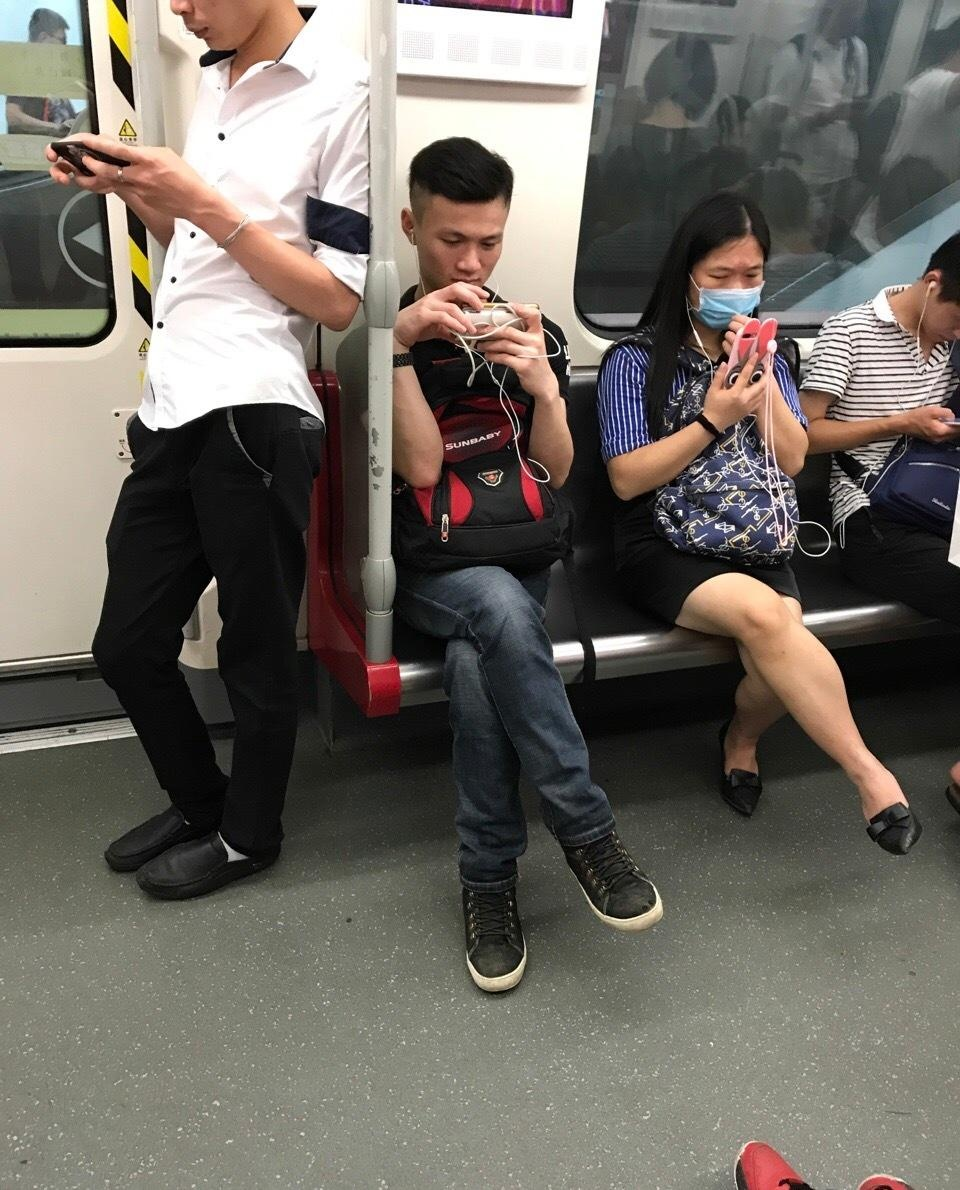Mask: (688, 252, 763, 327)
